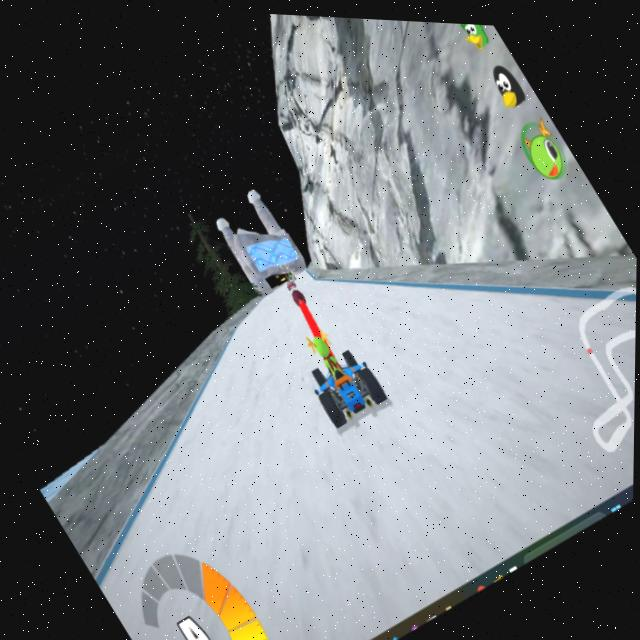enemy_kart: (278, 265, 304, 292)
track: (285, 311, 403, 439)
